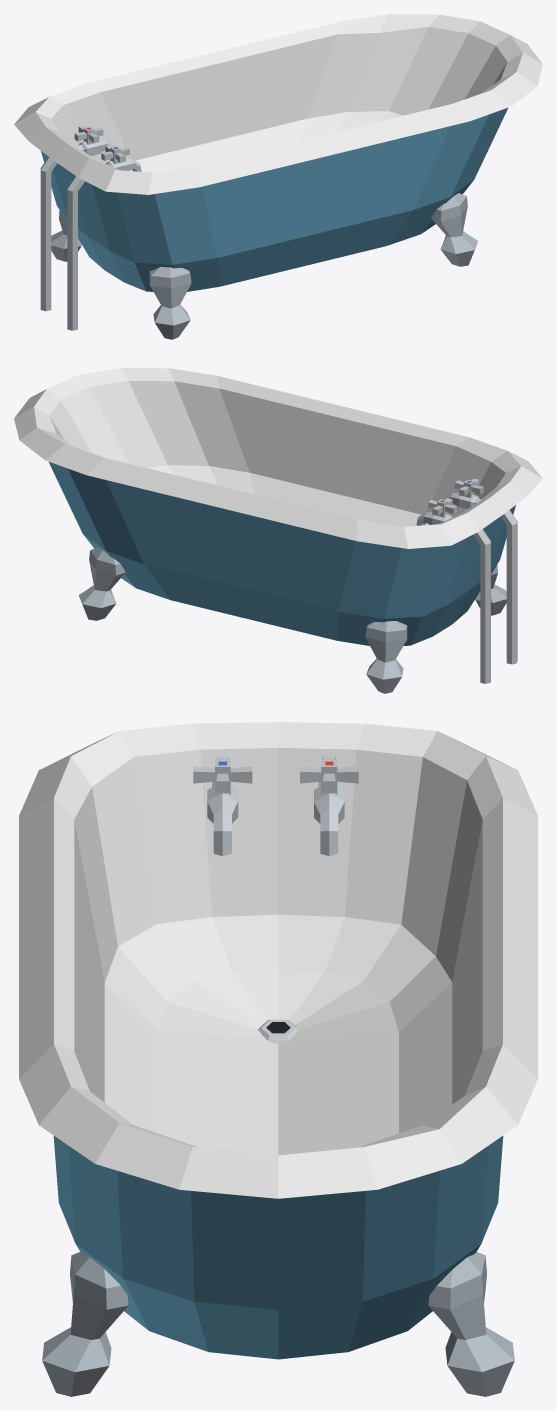
Rendered from SM_Prop_Bath_02.fbx.
The picture shows the model from 3 angles, top to bottom: view 1: azimuth 30°, elevation 25°; view 2: azimuth 150°, elevation 25°; view 3: azimuth 270°, elevation 25°; orthographic projection. The views are drawn at different scales.
Visible parts, largest first — view 1: SM_Prop_Bath_02.001; view 2: SM_Prop_Bath_02.001; view 3: SM_Prop_Bath_02.001.
Part boxes in pixels (x1,y1,x2,y2): SM_Prop_Bath_02.001: (14,14,542,339); SM_Prop_Bath_02.001: (14,368,542,693); SM_Prop_Bath_02.001: (19,722,537,1396).
Size of the model in its own units: 233 by 81.31 by 110.
